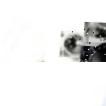ironball: (60, 29, 87, 56), (83, 20, 105, 50), (82, 40, 105, 62)
